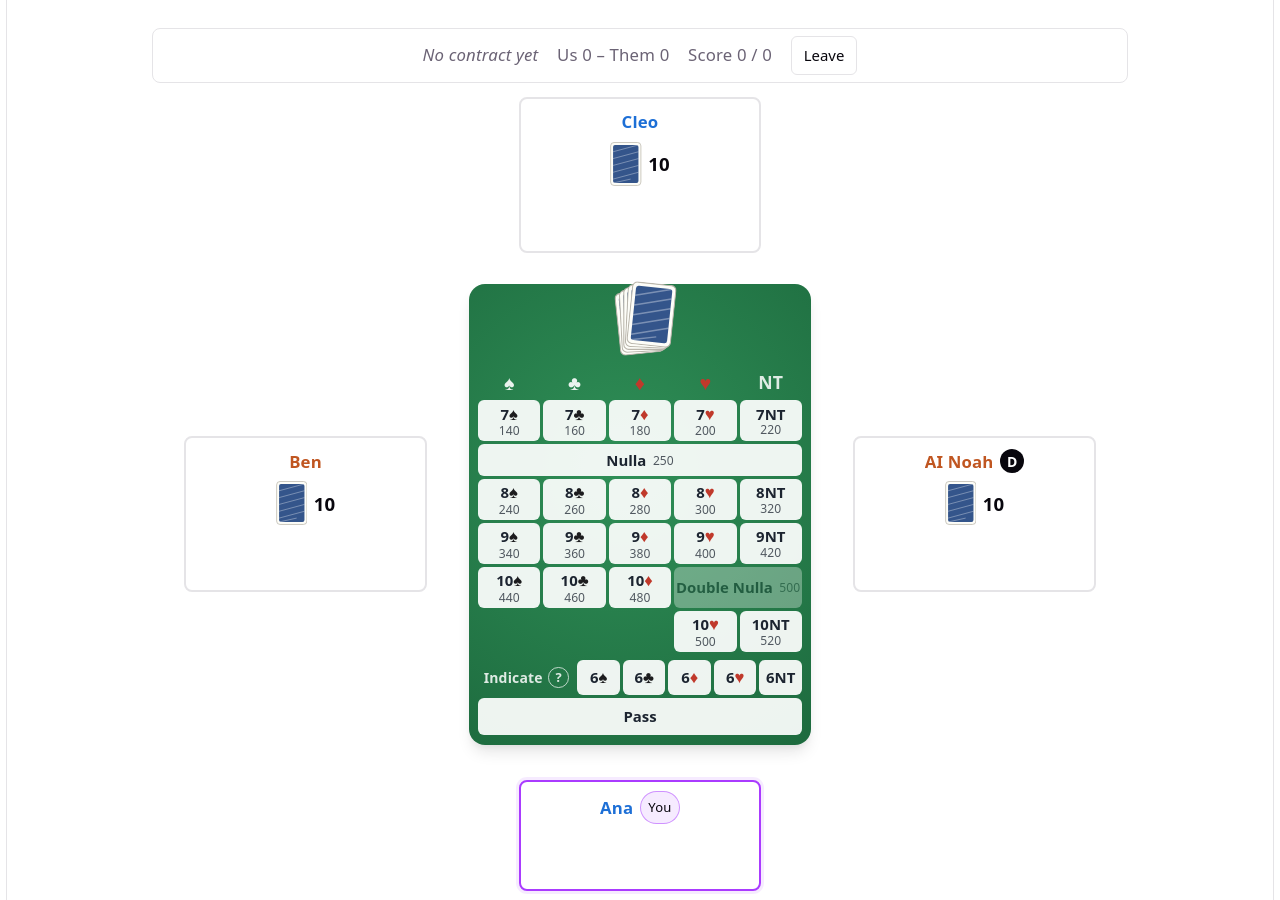
BidPanel › tap-toggles the indication tooltip for touch devices
The image size is (1280, 900).
Click the button named "What is an indication?". click: [559, 677]
box: [548,667,569,688]
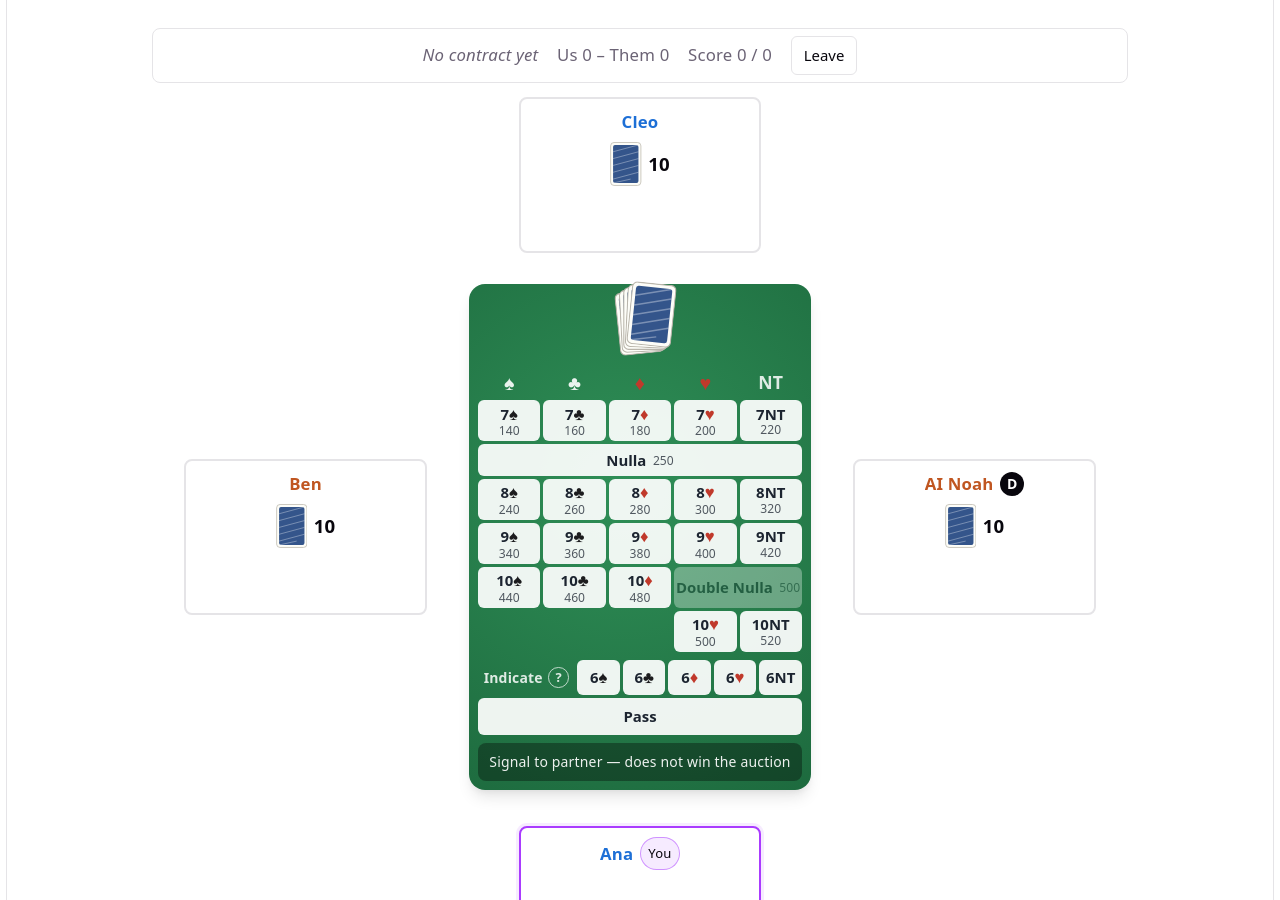
Now the text with test id "ind-tooltip" reads "Signal to partner — does not win the auction", box [489,752,791,771]
Click the button named "What is an indication?". click: [559, 677]
box: [548,667,569,688]
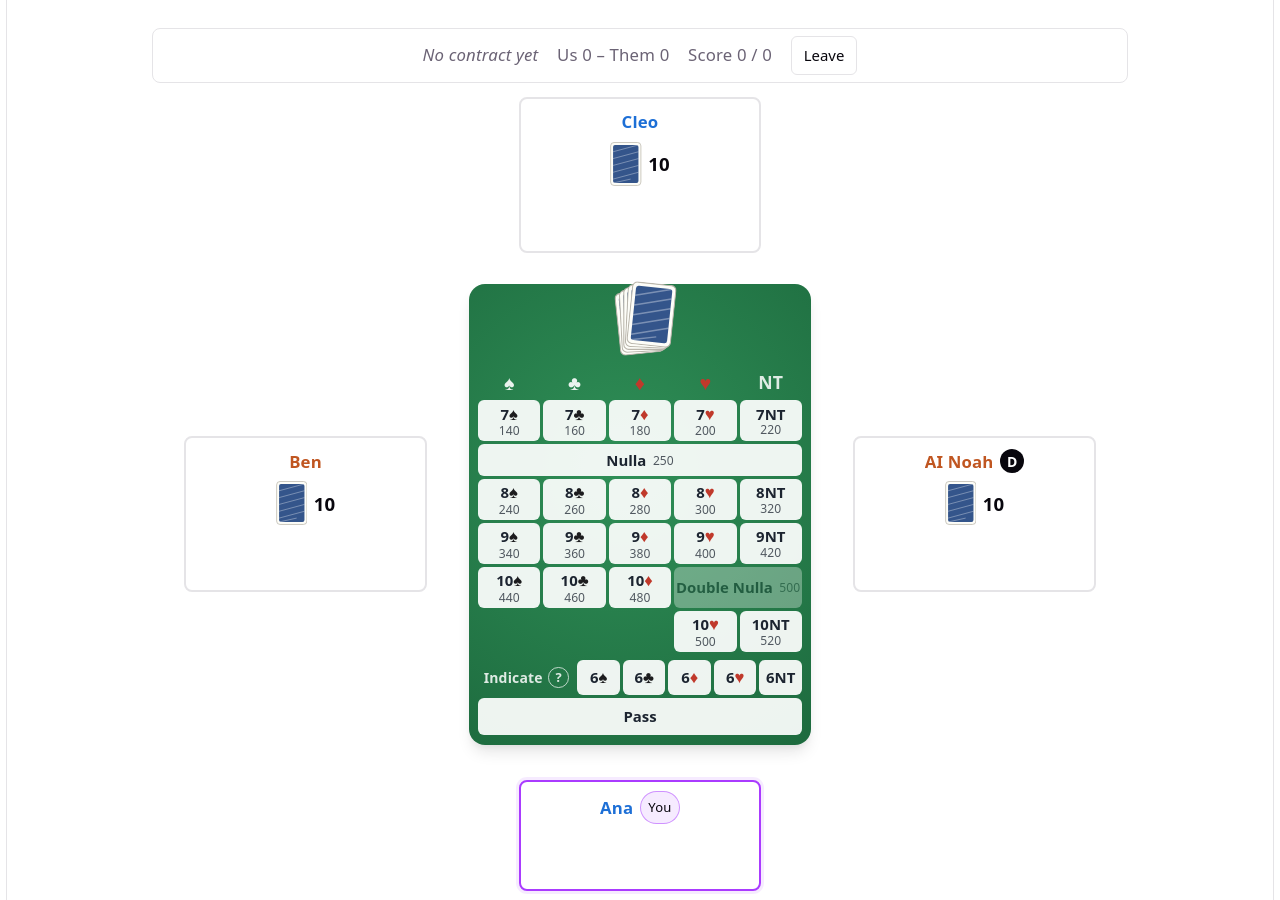
Now the text with test id "ind-tooltip" is gone
